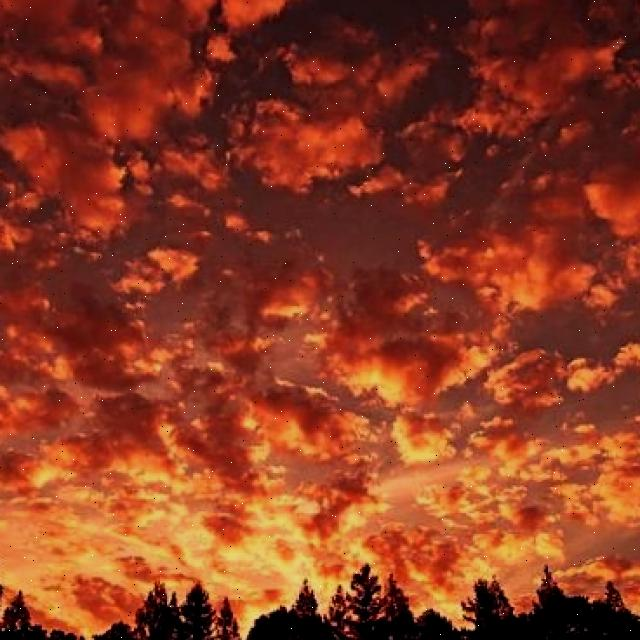Cc: (1, 1, 640, 535)
